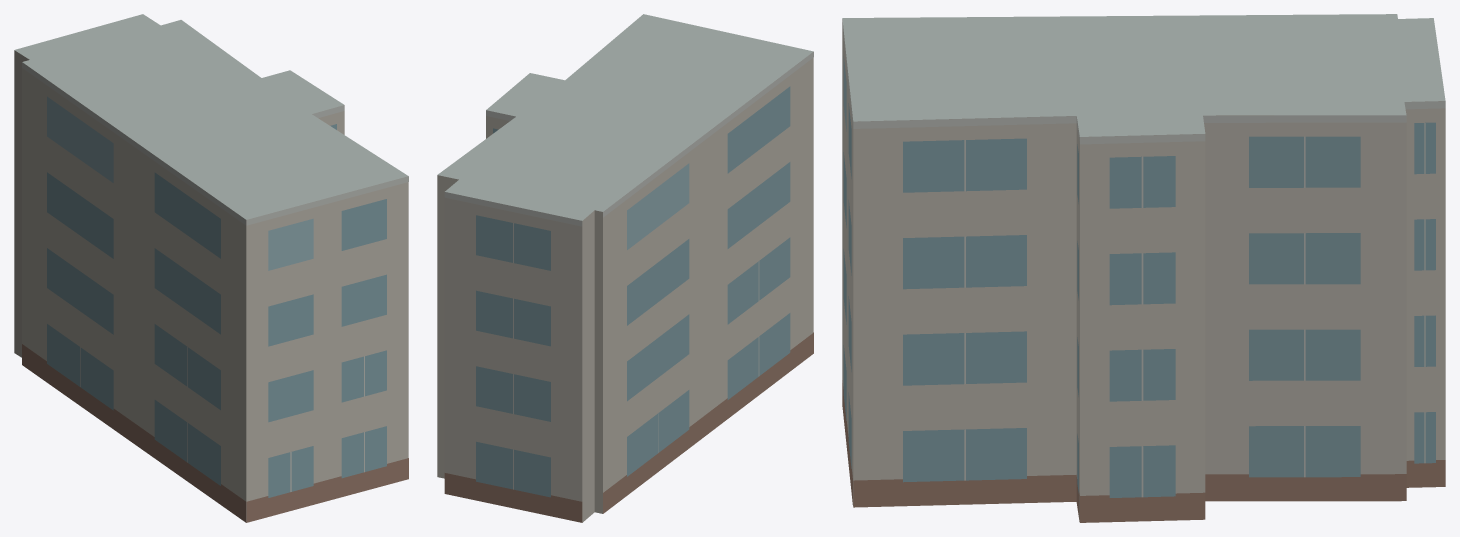
Rendered from survey-upis-32699118.glb.
3 views of the same model, side by side, from view 1: azimuth 30°, elevation 25°; view 2: azimuth 150°, elevation 25°; view 3: azimuth 270°, elevation 25° (orthographic). The views are drawn at different scales.
Visible parts, largest first — view 1: survey-upis-32699118.tmp; view 2: survey-upis-32699118.tmp; view 3: survey-upis-32699118.tmp.
Boxes of the visible parts, x1,y1,x2,y2 form: survey-upis-32699118.tmp: (14, 14, 408, 522); survey-upis-32699118.tmp: (437, 14, 813, 522); survey-upis-32699118.tmp: (842, 14, 1445, 522).
Bounding box in the file's own units: 8.66 × 12.65 × 17.94.
